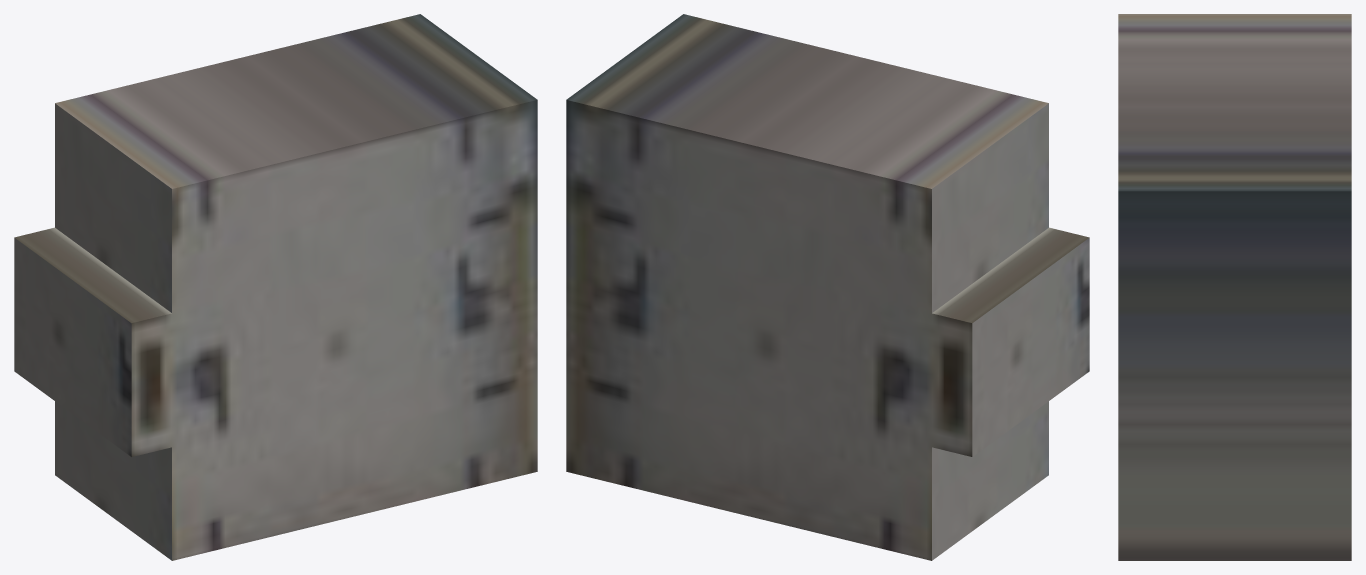
Rendered from s4_truss_23_battery_top_right.dae.
3 renders of one model, left to right at view 1: azimuth 30°, elevation 25°; view 2: azimuth 150°, elevation 25°; view 3: azimuth 270°, elevation 25°, orthographic.
Parts seen in each view (by area): view 1: 23 S4 Truss; view 2: 23 S4 Truss; view 3: 23 S4 Truss.
Part boxes in pixels (bbox=[...]): 23 S4 Truss: bbox=[14, 14, 537, 560]; 23 S4 Truss: bbox=[566, 14, 1089, 560]; 23 S4 Truss: bbox=[1118, 14, 1351, 560].
Size of the model in its own units: 1.05 by 0.5252 by 0.9191.
Materials: 2 (2 with a texture image).
